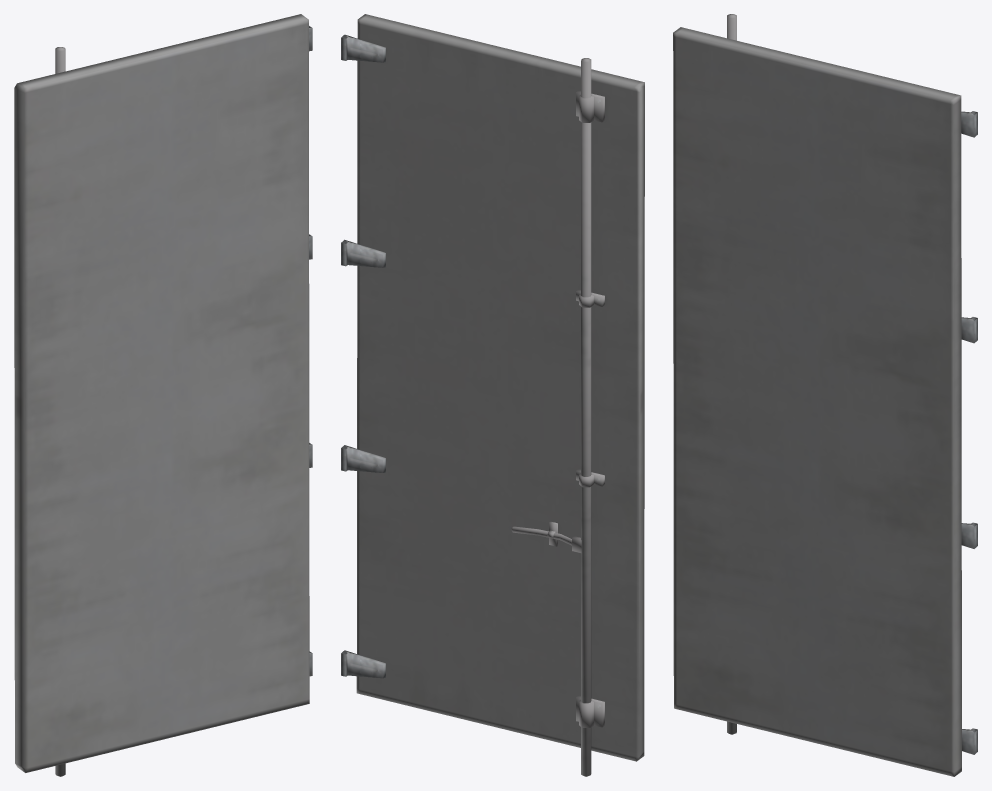
The model's file is truck_door_rl.fbx.
3 views of the same model, side by side, from view 1: azimuth 30°, elevation 25°; view 2: azimuth 150°, elevation 25°; view 3: azimuth 330°, elevation 25° (orthographic).
Visible parts, largest first — view 1: door_RL; view 2: door_RL; view 3: door_RL.
Part boxes in pixels (box(x1,y1,x2,y2)): door_RL: box(14, 14, 312, 776); door_RL: box(341, 14, 644, 776); door_RL: box(673, 14, 977, 776).
Size of the model in its own units: 102 by 239 by 9.49.
Materials: 1 (1 with a texture image).
